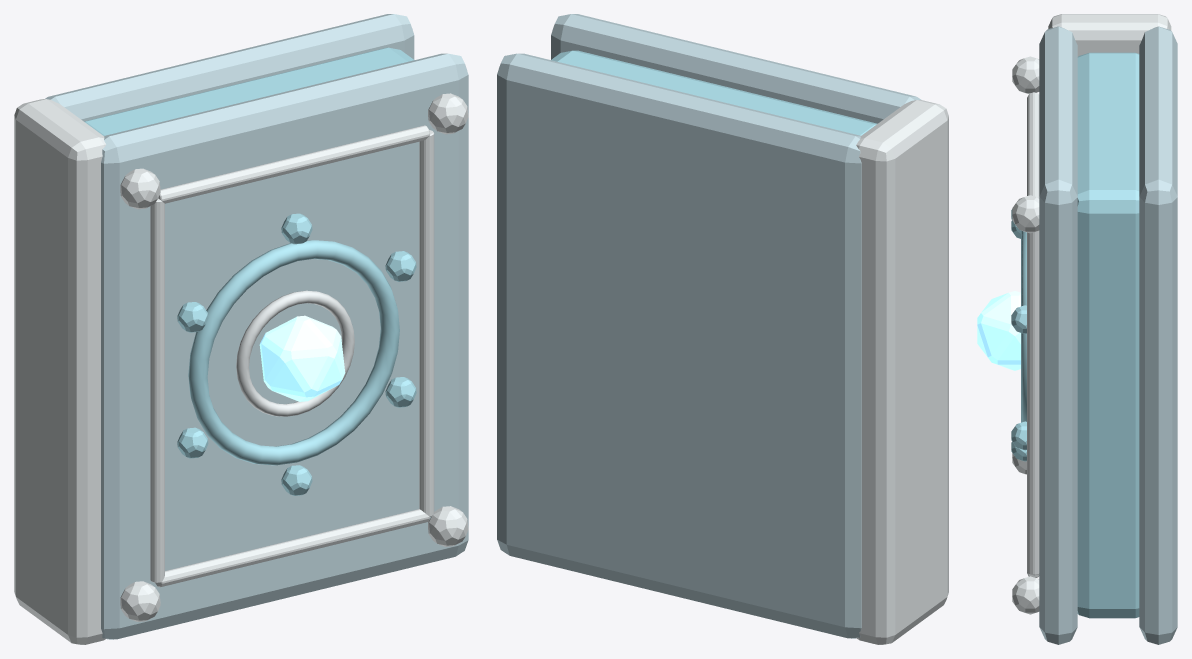
File: mage-book-03-frost-archive.glb
3 views of the same model, side by side, from view 1: azimuth 30°, elevation 25°; view 2: azimuth 150°, elevation 25°; view 3: azimuth 270°, elevation 25° (orthographic). The views are drawn at different scales.
Visible parts, largest first — view 1: mage-book-03-frost-archive_FrontCover, mage-book-03-frost-archive_Spine, mage-book-03-frost-archive_CoverSigilRing, mage-book-03-frost-archive_BackCover, mage-book-03-frost-archive_PageBlock, mage-book-03-frost-archive_GiltFrameSide_1, mage-book-03-frost-archive_CoverGem, mage-book-03-frost-archive_GiltFrameSide_-1, mage-book-03-frost-archive_GiltFrame_0.86, mage-book-03-frost-archive_GiltFrame_0.1, mage-book-03-frost-archive_CoverSigilInner, mage-book-03-frost-archive_CornerStud_-1_0.07 (+9 smaller); view 2: mage-book-03-frost-archive_BackCover, mage-book-03-frost-archive_Spine, mage-book-03-frost-archive_FrontCover, mage-book-03-frost-archive_PageBlock; view 3: mage-book-03-frost-archive_PageBlock, mage-book-03-frost-archive_FrontCover, mage-book-03-frost-archive_BackCover, mage-book-03-frost-archive_GiltFrameSide_1, mage-book-03-frost-archive_Spine, mage-book-03-frost-archive_CoverGem, mage-book-03-frost-archive_GiltFrame_0.86, mage-book-03-frost-archive_CoverSigilRing, mage-book-03-frost-archive_CornerStud_1_0.89, mage-book-03-frost-archive_CornerStud_1_0.07, mage-book-03-frost-archive_CornerStud_-1_0.89, mage-book-03-frost-archive_SnowPoint_3 (+1 smaller).
Part boxes in pixels (x1,y1,x2,y2): mage-book-03-frost-archive_FrontCover: [101, 53, 468, 639]; mage-book-03-frost-archive_Spine: [14, 99, 105, 644]; mage-book-03-frost-archive_CoverSigilRing: [188, 240, 399, 465]; mage-book-03-frost-archive_BackCover: [45, 14, 414, 121]; mage-book-03-frost-archive_PageBlock: [84, 47, 414, 135]; mage-book-03-frost-archive_GiltFrameSide_1: [419, 130, 434, 516]; mage-book-03-frost-archive_CoverGem: [259, 315, 345, 401]; mage-book-03-frost-archive_GiltFrameSide_-1: [150, 198, 164, 582]; mage-book-03-frost-archive_GiltFrame_0.86: [158, 125, 429, 203]; mage-book-03-frost-archive_GiltFrame_0.1: [155, 509, 429, 587]; mage-book-03-frost-archive_CoverSigilInner: [236, 290, 354, 416]; mage-book-03-frost-archive_CornerStud_-1_0.07: [120, 581, 160, 621]; mage-book-03-frost-archive_BackCover: [497, 53, 861, 638]; mage-book-03-frost-archive_Spine: [856, 100, 948, 644]; mage-book-03-frost-archive_FrontCover: [551, 14, 921, 123]; mage-book-03-frost-archive_PageBlock: [551, 50, 877, 135]; mage-book-03-frost-archive_PageBlock: [1077, 52, 1139, 618]; mage-book-03-frost-archive_FrontCover: [1039, 26, 1077, 644]; mage-book-03-frost-archive_BackCover: [1139, 26, 1177, 644]; mage-book-03-frost-archive_GiltFrameSide_1: [1027, 231, 1039, 575]; mage-book-03-frost-archive_Spine: [1048, 14, 1171, 56]; mage-book-03-frost-archive_CoverGem: [977, 291, 1020, 370]; mage-book-03-frost-archive_GiltFrame_0.86: [1027, 92, 1039, 197]; mage-book-03-frost-archive_CoverSigilRing: [1021, 230, 1026, 422]; mage-book-03-frost-archive_CornerStud_1_0.89: [1012, 195, 1039, 233]; mage-book-03-frost-archive_CornerStud_1_0.07: [1012, 576, 1039, 614]; mage-book-03-frost-archive_CornerStud_-1_0.89: [1012, 56, 1039, 93]; mage-book-03-frost-archive_SnowPoint_3: [1011, 421, 1026, 450].
Size of the model in its own units: 0.825 by 1 by 0.3912.
